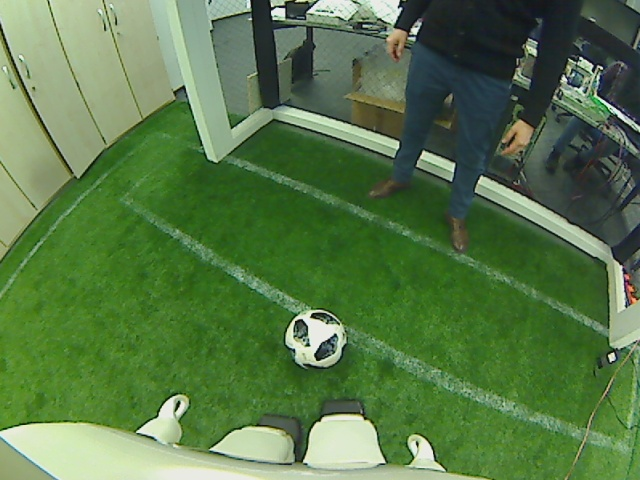ball: (284, 308, 346, 369)
